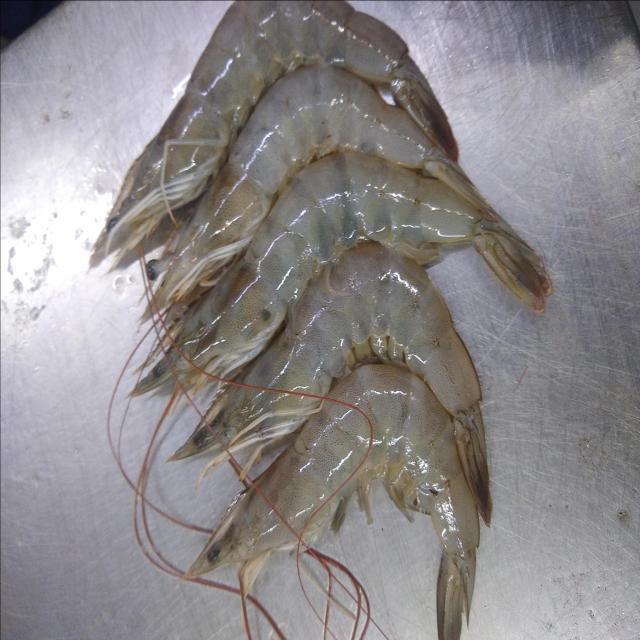shrimp: (90, 0, 458, 265), (134, 152, 486, 393), (185, 363, 479, 638), (171, 242, 485, 472), (156, 65, 436, 307)
